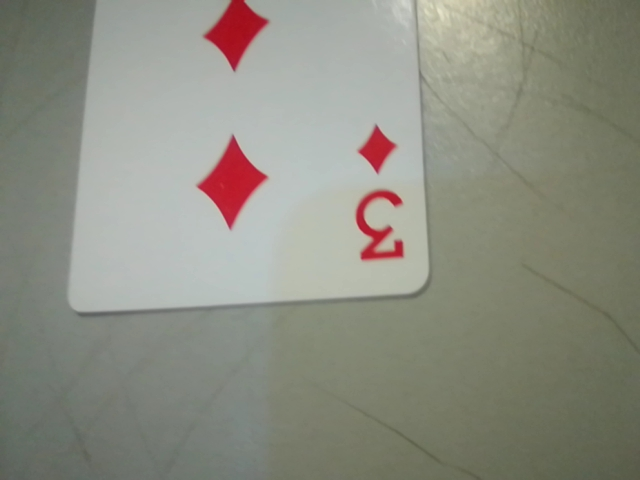fk 3: (341, 116, 419, 276)
